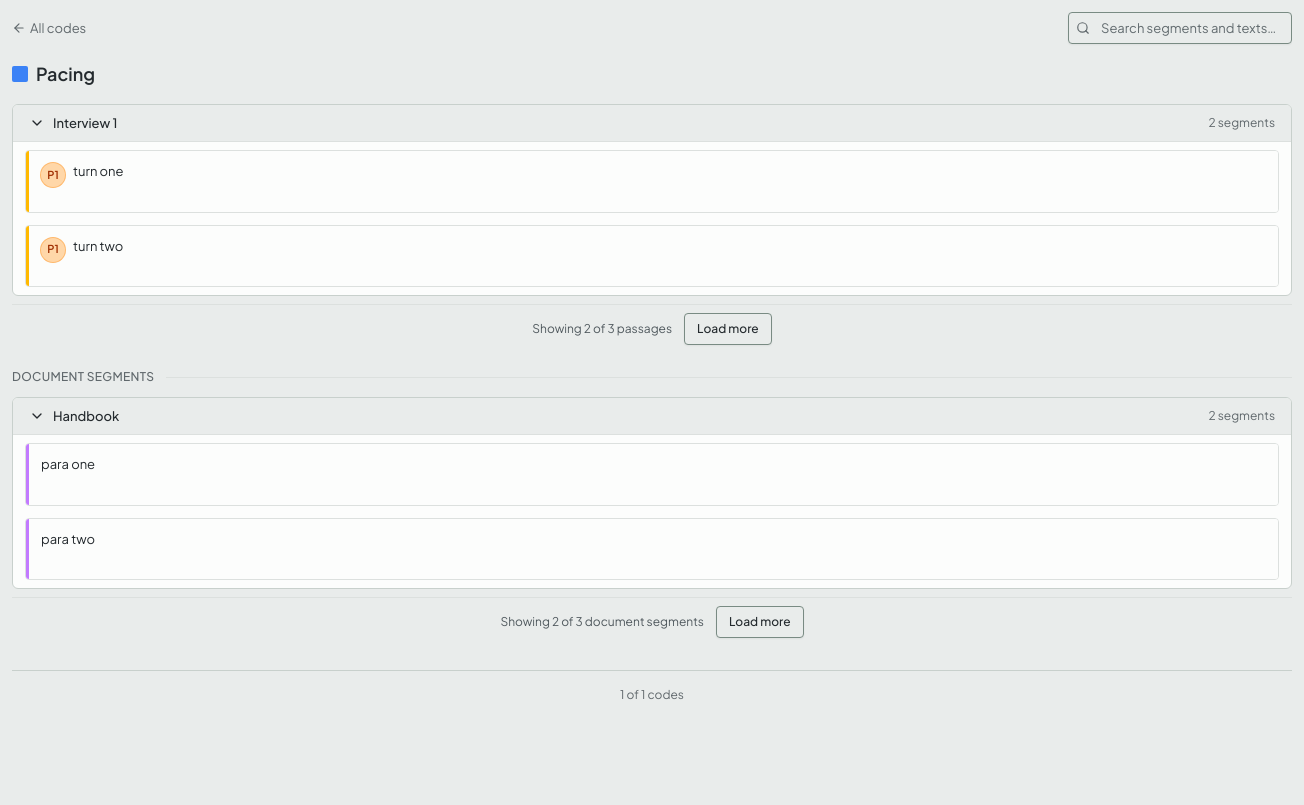
it: #968 — Load more APPENDS, and the rows stay on screen while it runs › keeps every row through the request, then adds the next page to BOTH sections
Expected: the text "turn one" is shown, x1=73 y1=163 x2=124 y2=179
Expected: the text "Showing 2 of 3 passages" is shown, x1=532 y1=321 x2=672 y2=337
Click the button with aria-label "Load more document segments — 1 remaining".
click(760, 622)  # box x1=716 y1=606 x2=804 y2=638
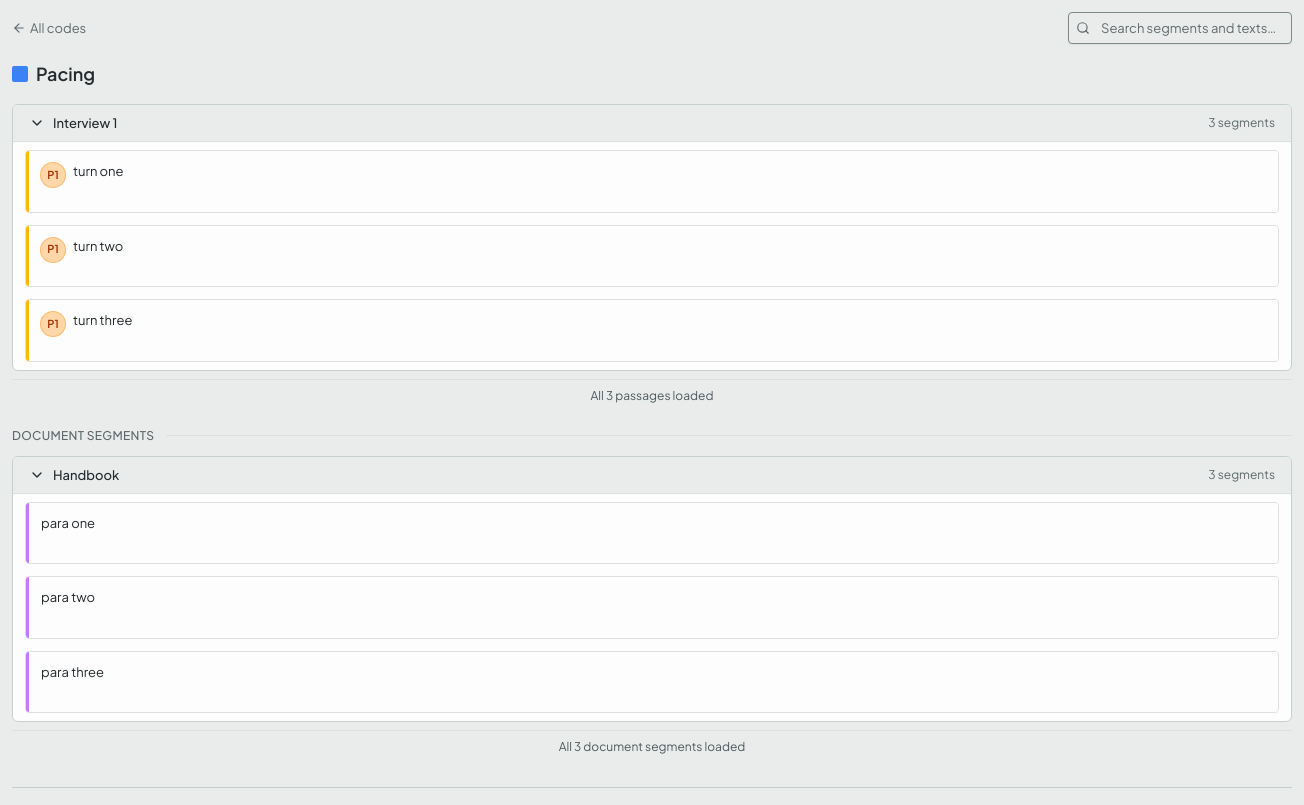
Result: the text "turn three" is shown at x1=73 y1=312 x2=132 y2=328
Result: the text "para three" is shown at x1=41 y1=664 x2=104 y2=680
Result: the text "All 3 passages loaded" is shown at x1=590 y1=388 x2=713 y2=404
